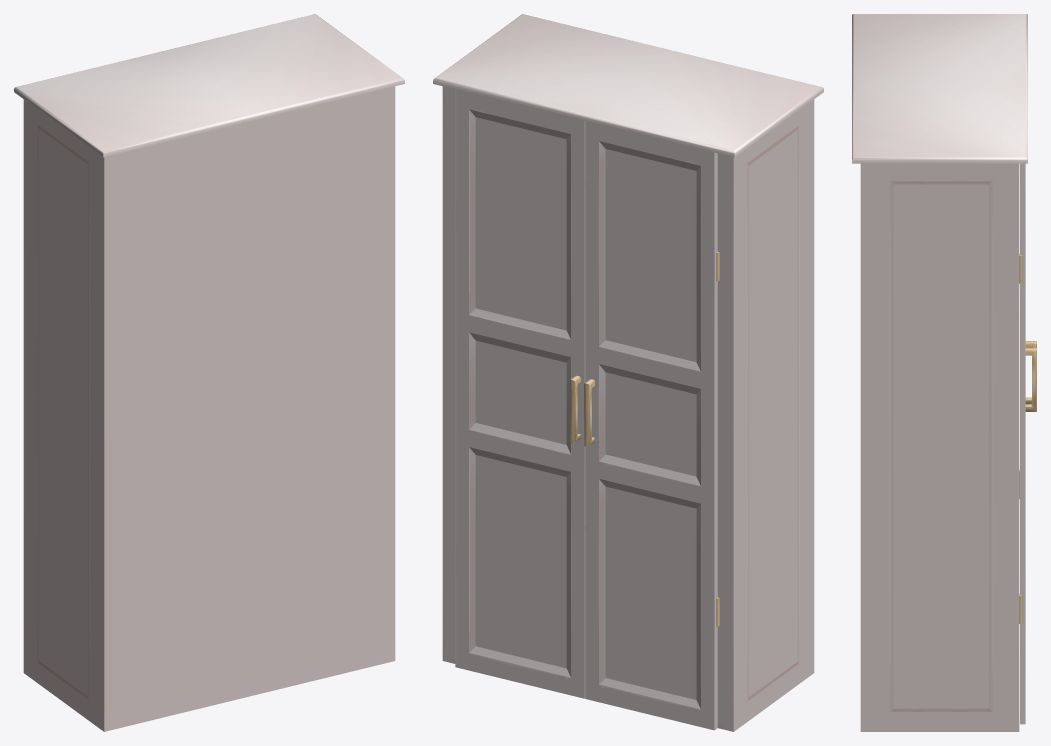
File: Bedroom Wardrobe.fbx
3 renders of one model, left to right at view 1: azimuth 30°, elevation 25°; view 2: azimuth 150°, elevation 25°; view 3: azimuth 270°, elevation 25°, orthographic.
Parts seen in each view (by area): view 1: Bedroom Wardrobe; view 2: Bedroom Wardrobe, Bedroom WardrobeDoorR, Bedroom WardrobeDoorL; view 3: Bedroom Wardrobe, Bedroom WardrobeDoorL.
Boxes of the visible parts, <box> form: Bedroom Wardrobe: <box>14,14,404,731</box>; Bedroom Wardrobe: <box>433,14,823,731</box>; Bedroom WardrobeDoorR: <box>584,121,717,730</box>; Bedroom WardrobeDoorL: <box>455,89,585,698</box>; Bedroom Wardrobe: <box>852,14,1027,731</box>; Bedroom WardrobeDoorL: <box>1020,163,1036,724</box>.
Size of the model in its own units: 1.54 by 2.86 by 0.8307.
Materials: 2 (2 with a texture image).
